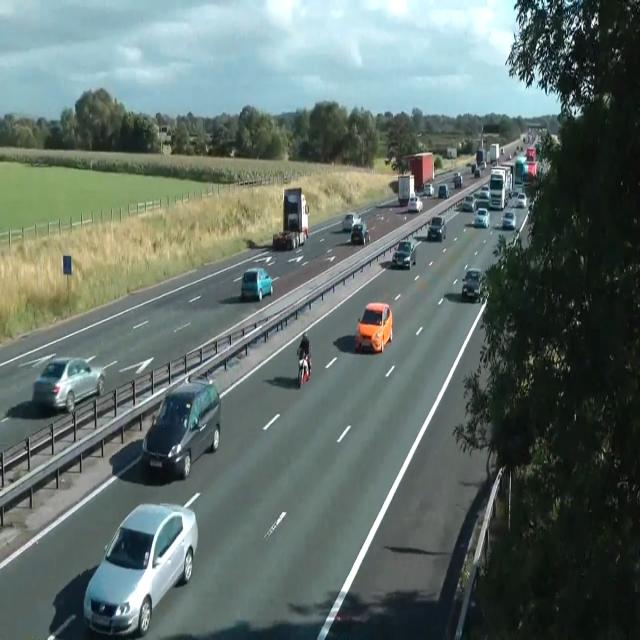bus: (31, 356, 106, 414), (355, 301, 393, 353), (241, 268, 273, 302), (462, 268, 484, 302), (392, 240, 416, 269), (426, 215, 446, 241), (273, 230, 295, 251), (350, 222, 370, 244), (342, 212, 362, 231), (474, 207, 490, 228), (501, 210, 517, 229), (407, 195, 423, 212), (462, 194, 476, 212), (438, 183, 449, 198), (452, 172, 462, 188), (423, 183, 434, 196), (518, 192, 526, 208), (480, 184, 489, 197), (474, 167, 480, 178), (480, 160, 486, 169)
jeep: (82, 501, 198, 636), (141, 377, 221, 479)
lorry: (296, 344, 312, 388)
minibus: (272, 187, 309, 250), (399, 152, 434, 196), (488, 170, 506, 210), (398, 172, 414, 206), (525, 147, 536, 176), (158, 124, 172, 144), (489, 142, 499, 164), (476, 148, 486, 168), (446, 148, 456, 158)
